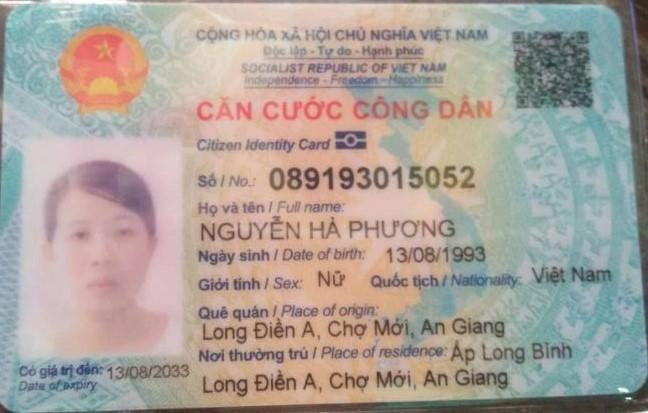ID: (264, 156, 479, 196)
birth: (381, 240, 493, 270)
name: (192, 214, 460, 243)
place: (192, 315, 518, 346)
residence: (194, 363, 515, 398), (442, 337, 582, 368)
